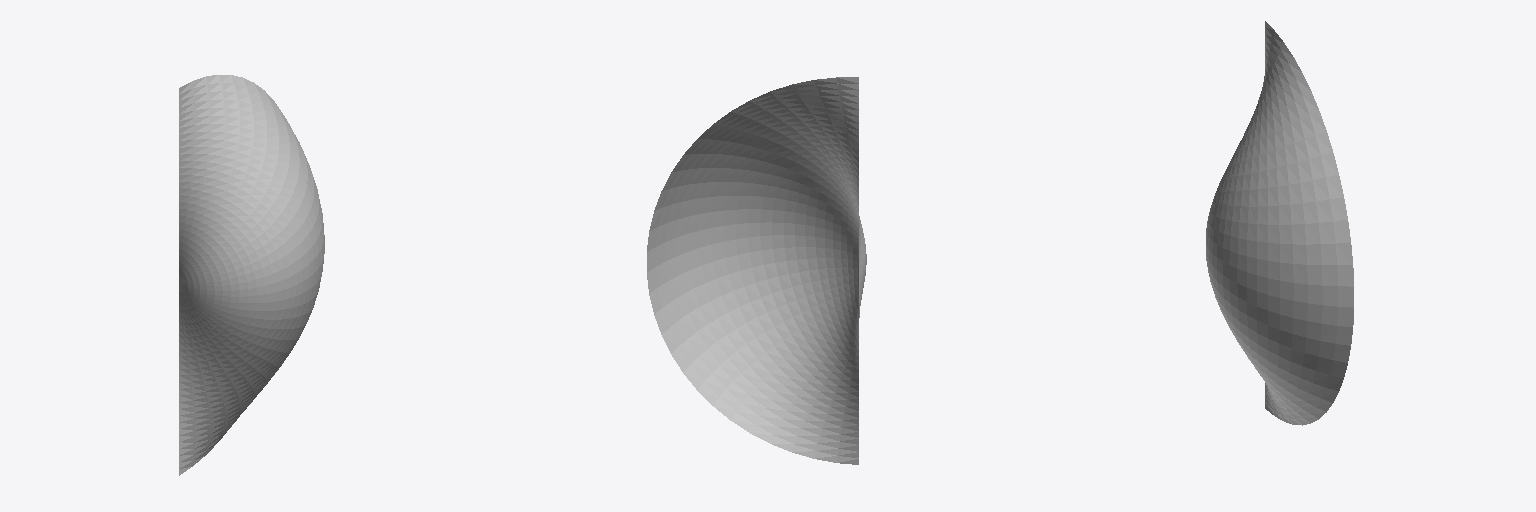
Rendered from snail.obj.
3 renders of one model, left to right at view 1: azimuth 30°, elevation 25°; view 2: azimuth 150°, elevation 25°; view 3: azimuth 270°, elevation 25°, orthographic.
Bounding box in the file's own units: 1.82 × 4 × 1.39.